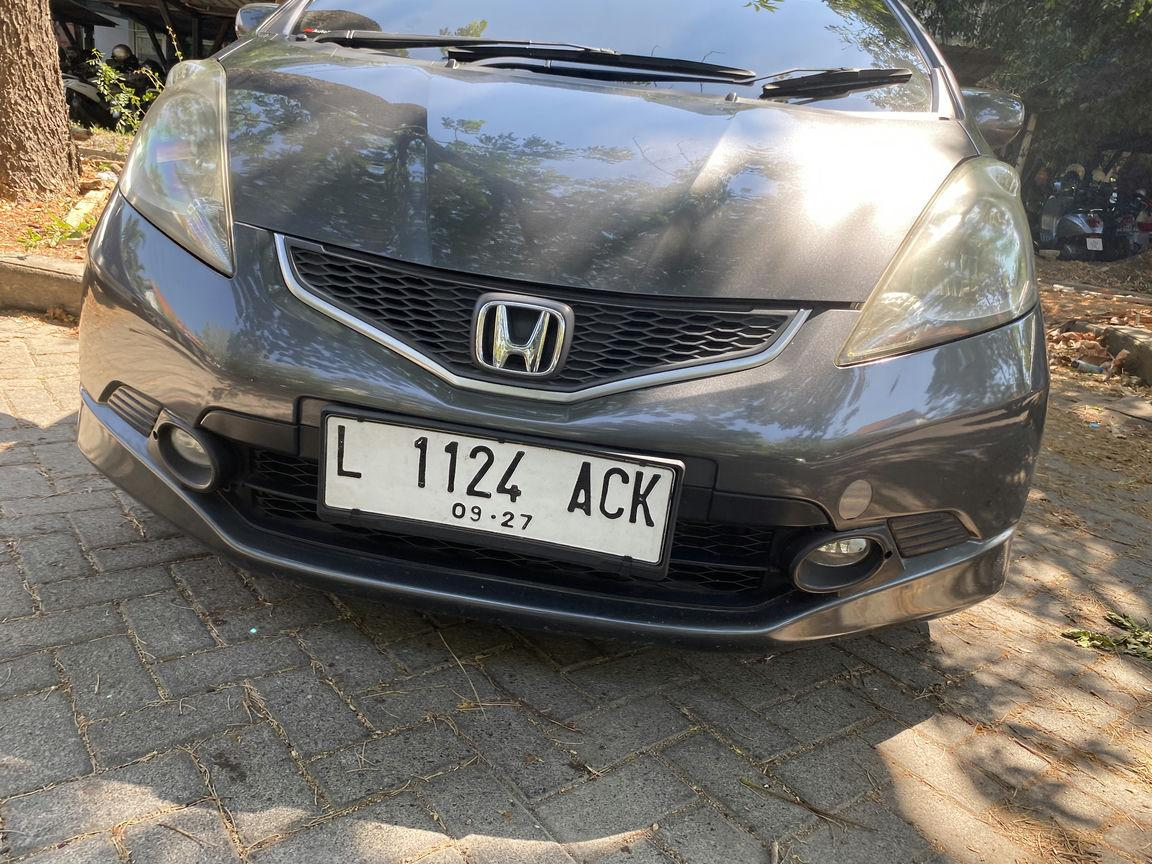plat: (320, 414, 680, 572)
